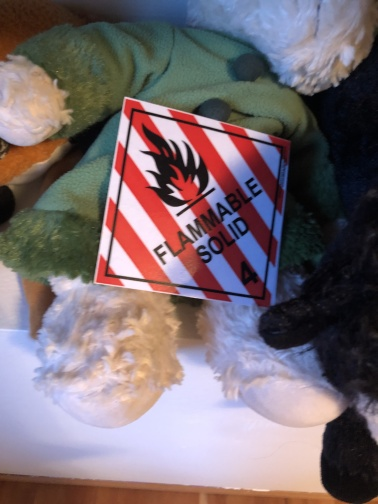FlammableSolid: (119, 106, 275, 302)
